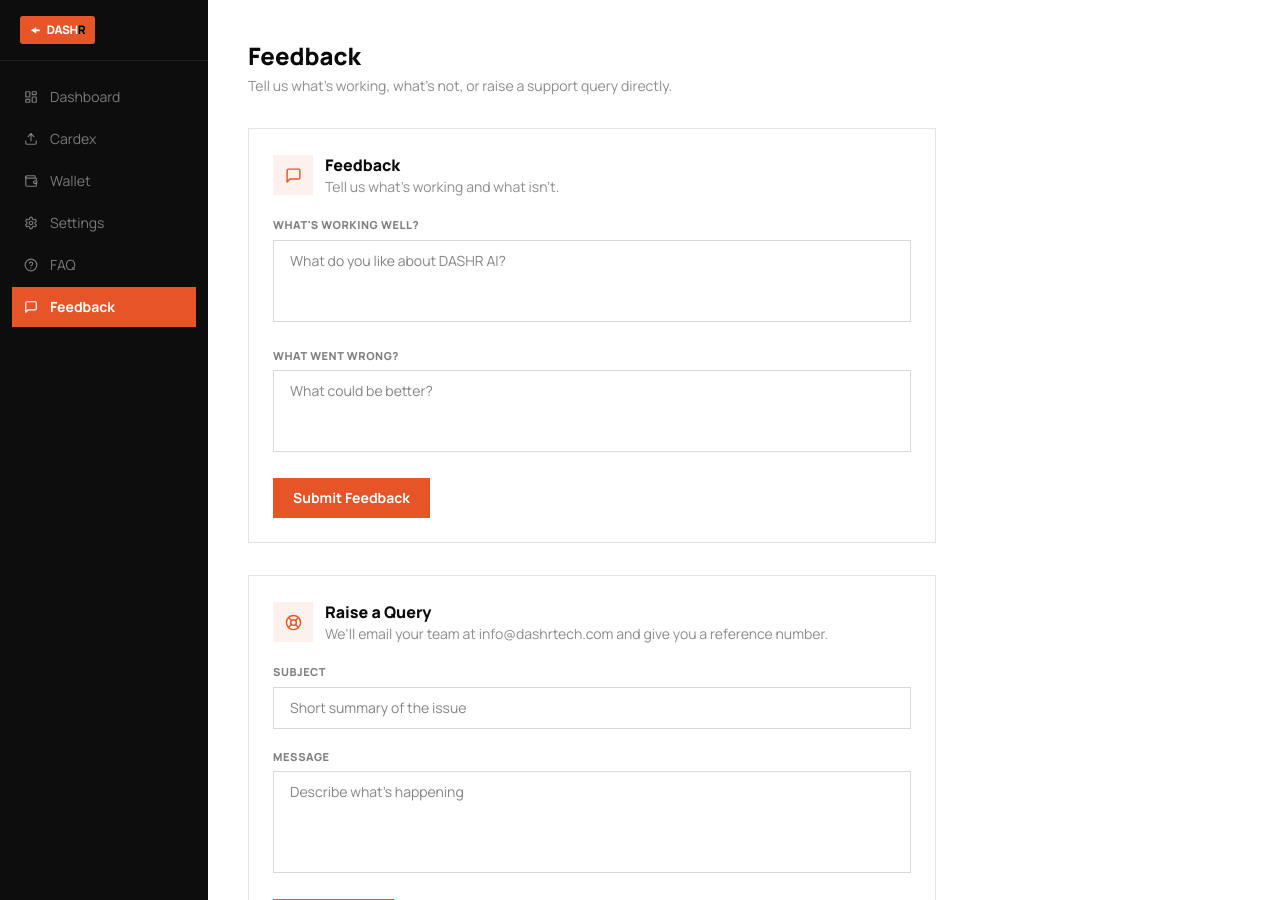
Test: /feedback page -- Feedback section › submits whichever field was filled in and shows a confirmation
Type "Extraction missed my phone number" into the text box named "what went wrong". click: (592, 411)
box: [273,370,911,452]
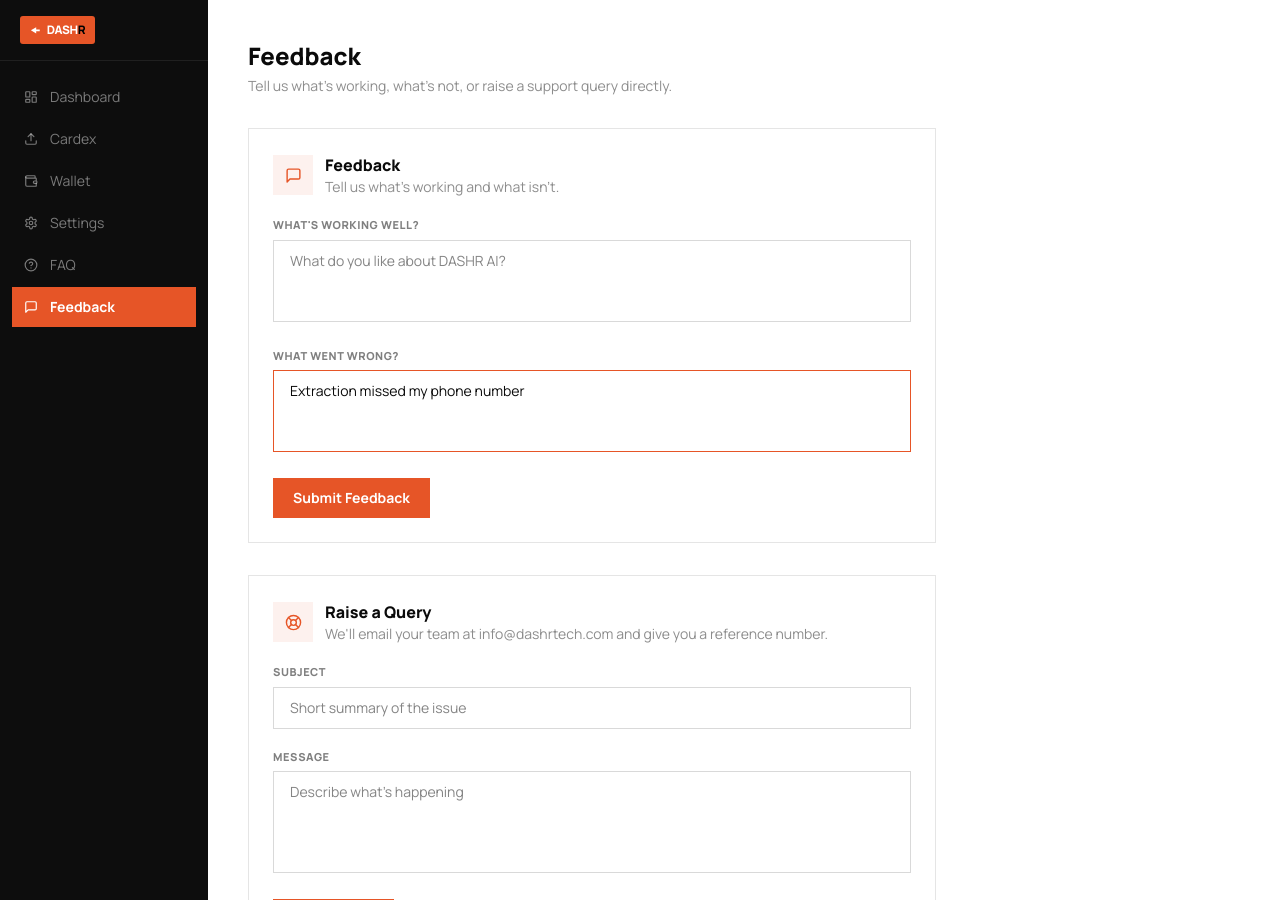
Click the button "Submit Feedback". click: (351, 498)
box: [273,478,430,518]
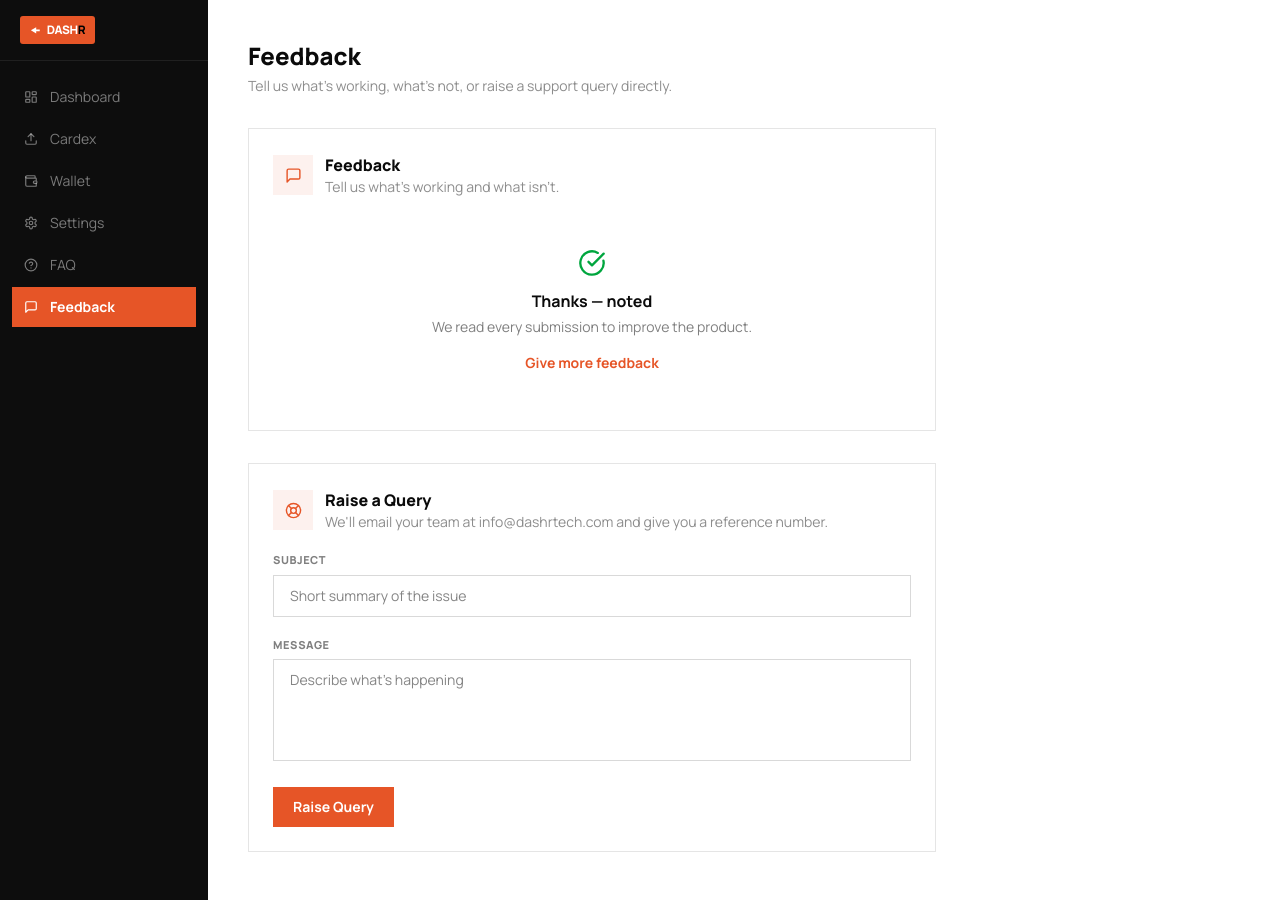
Result: the text "Thanks — noted" is shown at [532,290,652,312]
